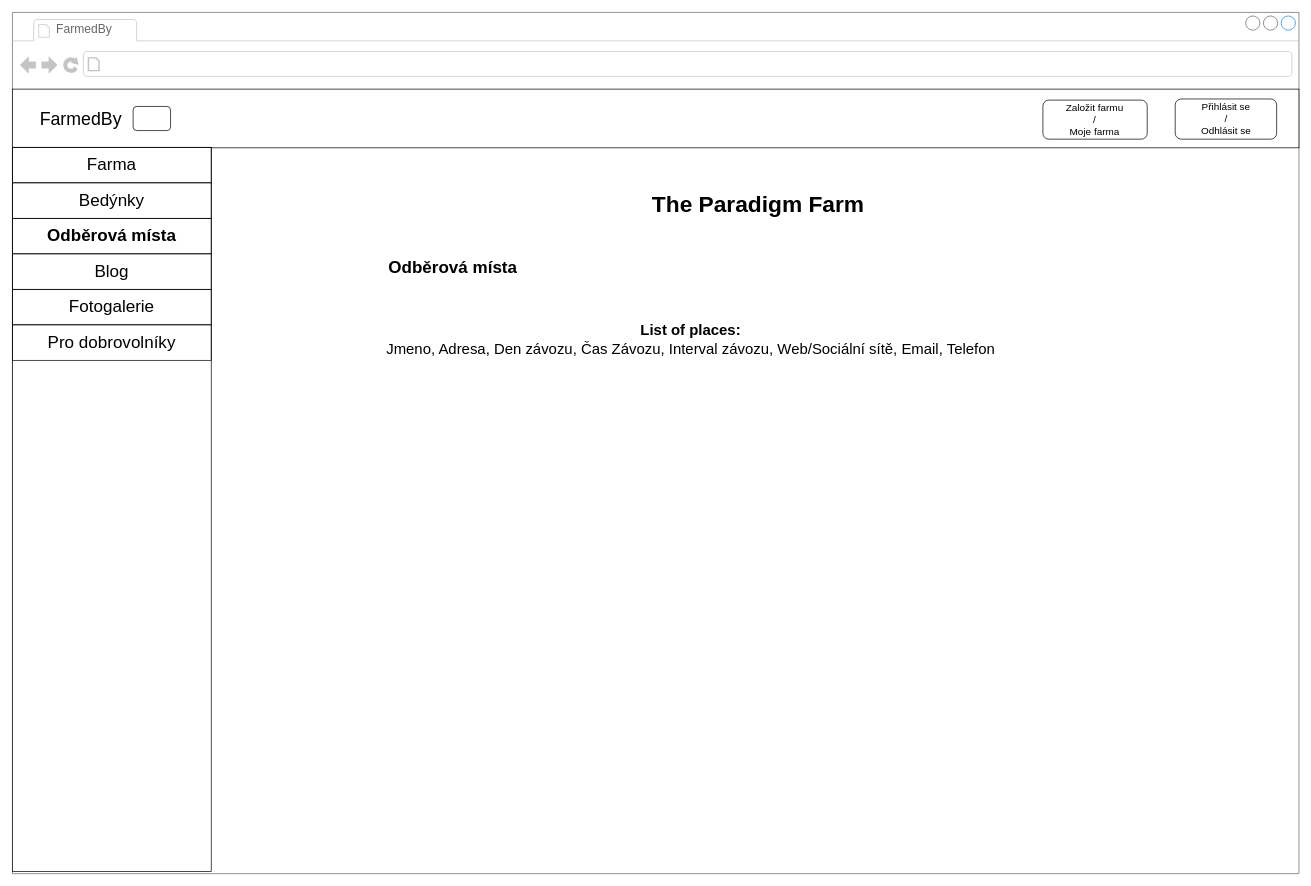
Image size: 1311x886. Some labels were removed from this diagram. Here are the shapes that lost their labels. From the top down, the centre of each, then its label:
At point 193,63: "https://www.farmedby.com".
At point 151,118: "CZ".
